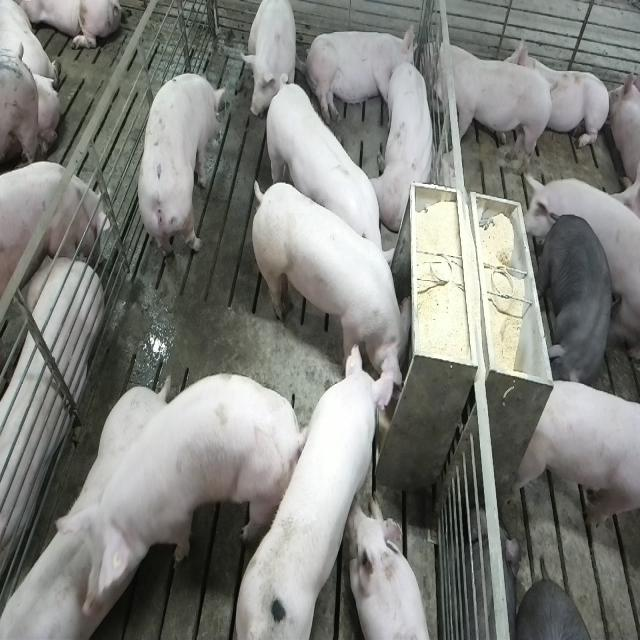Feeding: (238, 333, 404, 635), (254, 171, 419, 402)
Lateral_lying: (0, 246, 102, 624), (302, 20, 418, 128)
Sitting: (244, 2, 300, 124)
Standing: (5, 384, 185, 640), (144, 372, 304, 632), (262, 76, 394, 286), (514, 376, 639, 541), (137, 69, 225, 275), (424, 48, 555, 181), (0, 518, 130, 638), (0, 162, 108, 302), (538, 209, 614, 386)
Sternal_lying: (509, 30, 610, 153), (352, 499, 434, 640), (374, 60, 438, 232)
